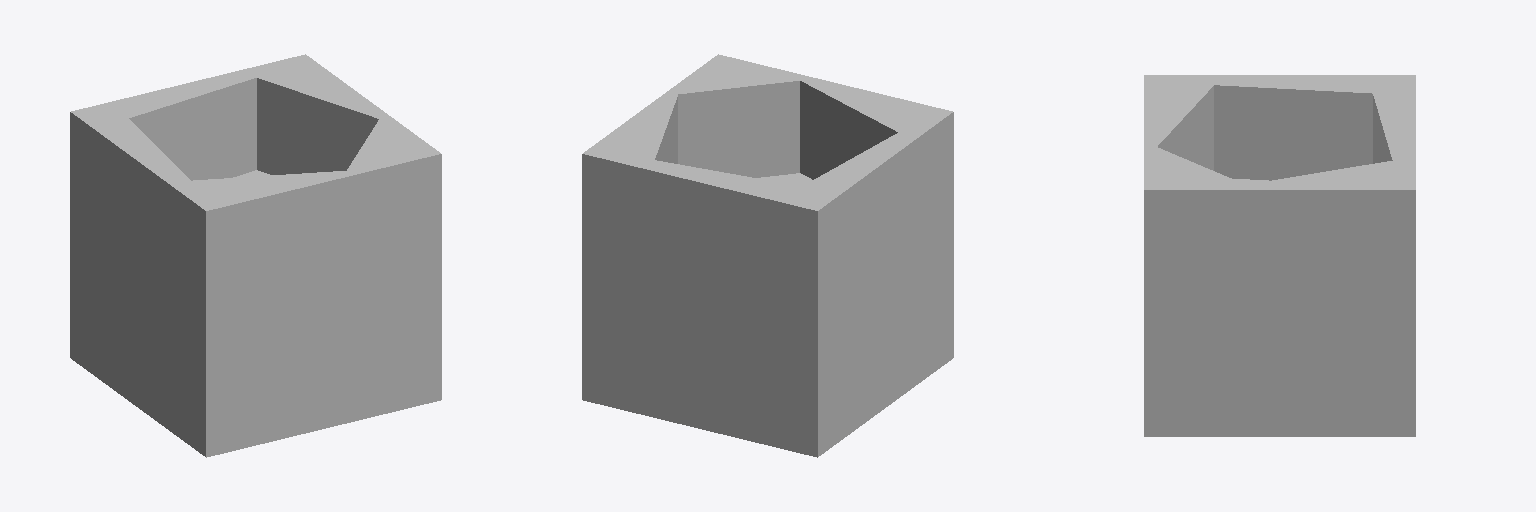
The model's file is Pentagon_cube_bottle_rotated45_preprocessed.obj.
3 renders of one model, left to right at view 1: azimuth 30°, elevation 25°; view 2: azimuth 150°, elevation 25°; view 3: azimuth 270°, elevation 25°, orthographic.
Size of the model in its own units: 0.08 by 0.08 by 0.08.